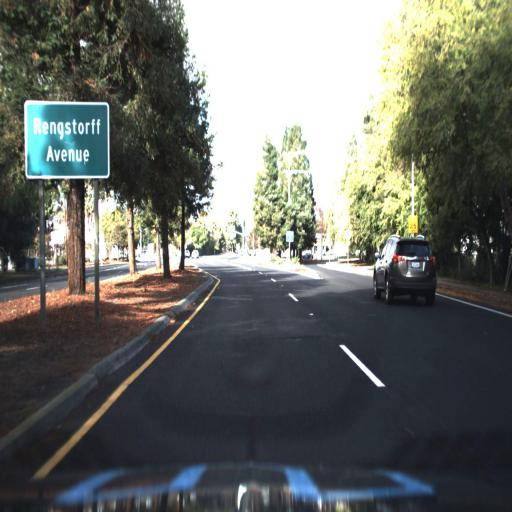car: (369, 233, 439, 305)
